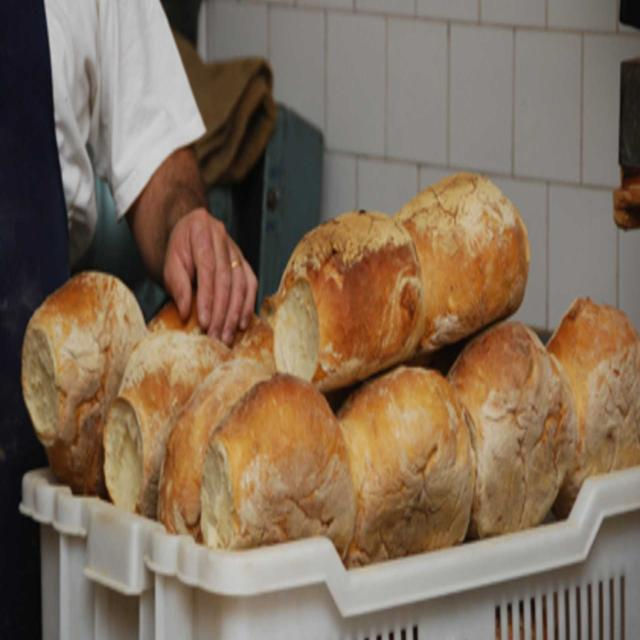Maltese-Bread: (21, 272, 148, 497), (201, 374, 356, 558), (447, 322, 576, 539), (338, 367, 474, 568), (272, 211, 422, 392), (103, 322, 232, 518), (395, 172, 530, 354), (158, 351, 275, 539), (546, 297, 640, 517)
